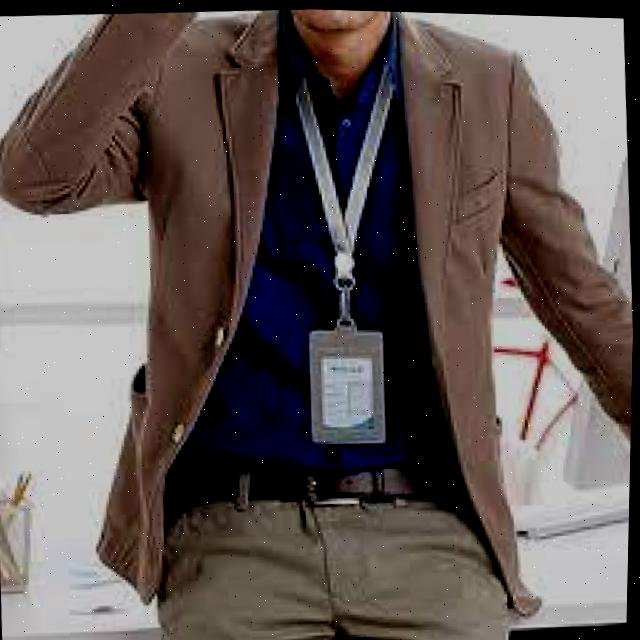id_card: (284, 68, 414, 450)
